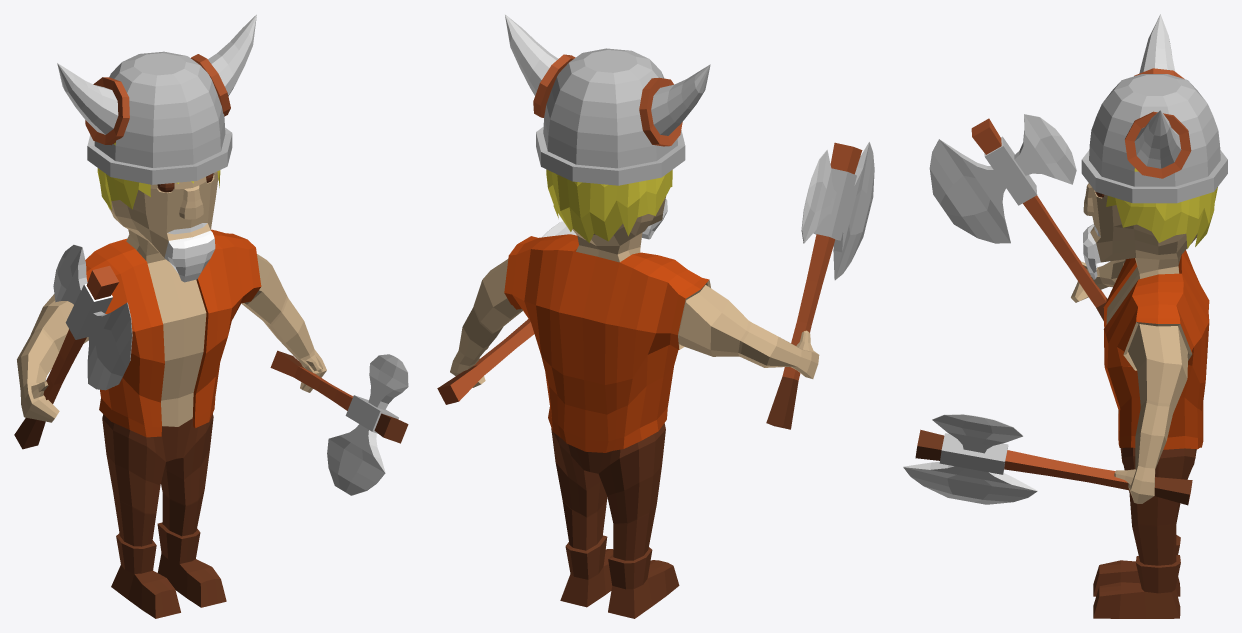
The model's file is VikingTexture6.obj.
3 renders of one model, left to right at view 1: azimuth 30°, elevation 25°; view 2: azimuth 150°, elevation 25°; view 3: azimuth 270°, elevation 25°, orthographic. The views are drawn at different scales.
Parts seen in each view (by area): view 1: Körper_Cube; view 2: Körper_Cube; view 3: Körper_Cube.
Boxes of the visible parts, x1,y1,x2,y2 form: Körper_Cube: [14, 14, 408, 618]; Körper_Cube: [437, 14, 874, 618]; Körper_Cube: [903, 14, 1227, 618].
Size of the model in its own units: 11.44 by 18.53 by 10.12.
